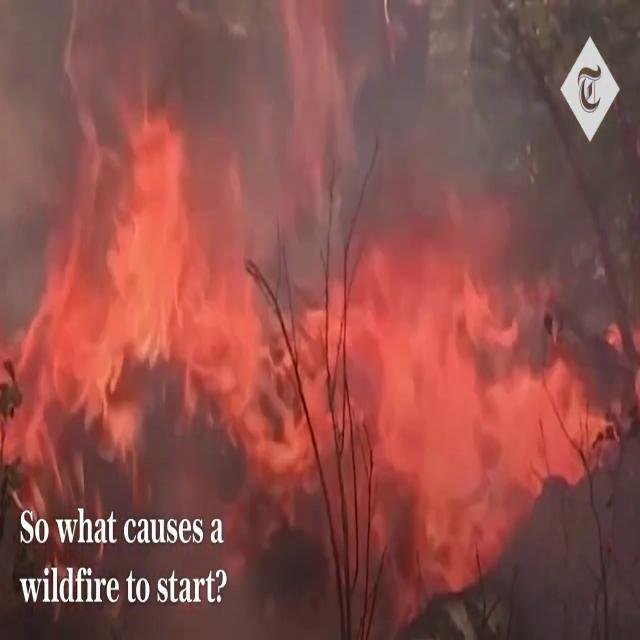Fire: (248, 214, 616, 596), (1, 39, 261, 492)
